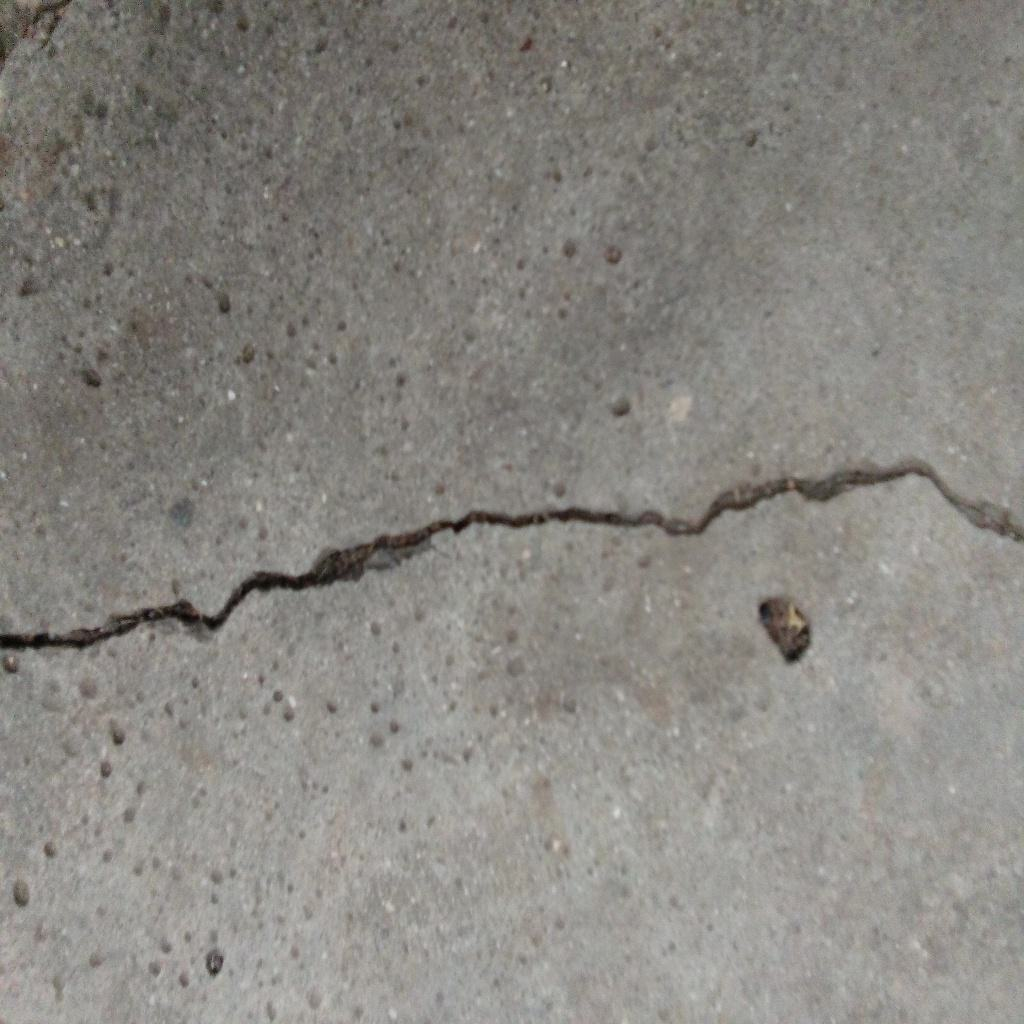Crack: (1, 454, 1024, 654)
Spalling: (758, 597, 813, 667)
